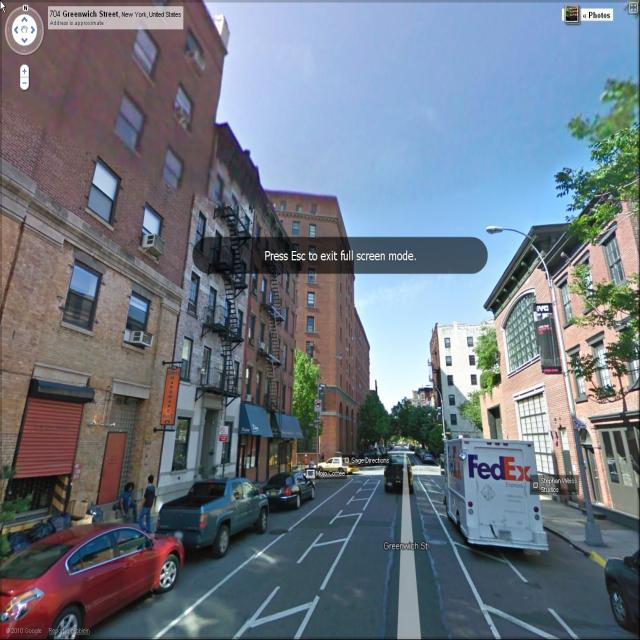b_1: (2, 6, 216, 520), (156, 134, 260, 482), (227, 193, 305, 480), (429, 312, 490, 422)
b_2: (492, 166, 638, 514), (298, 198, 368, 458)
